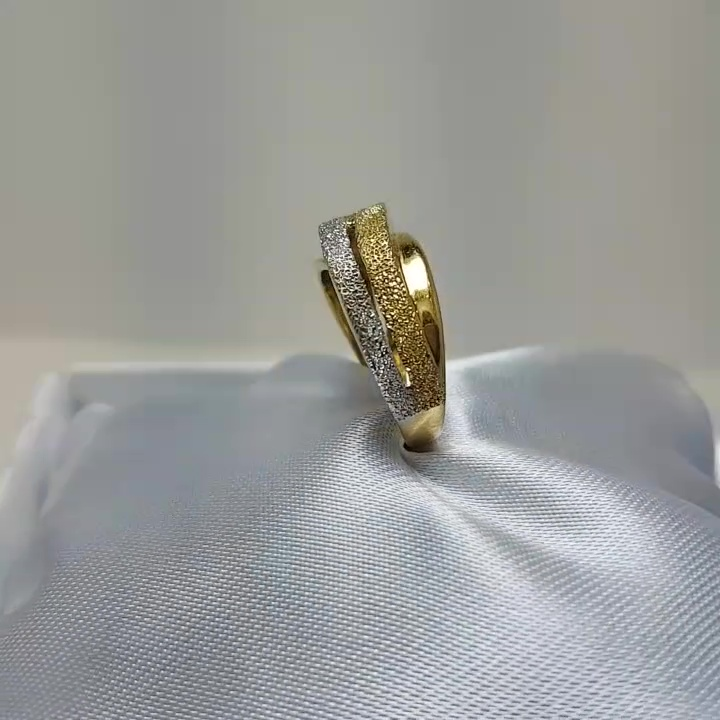Ring 5: (283, 195, 472, 470)
